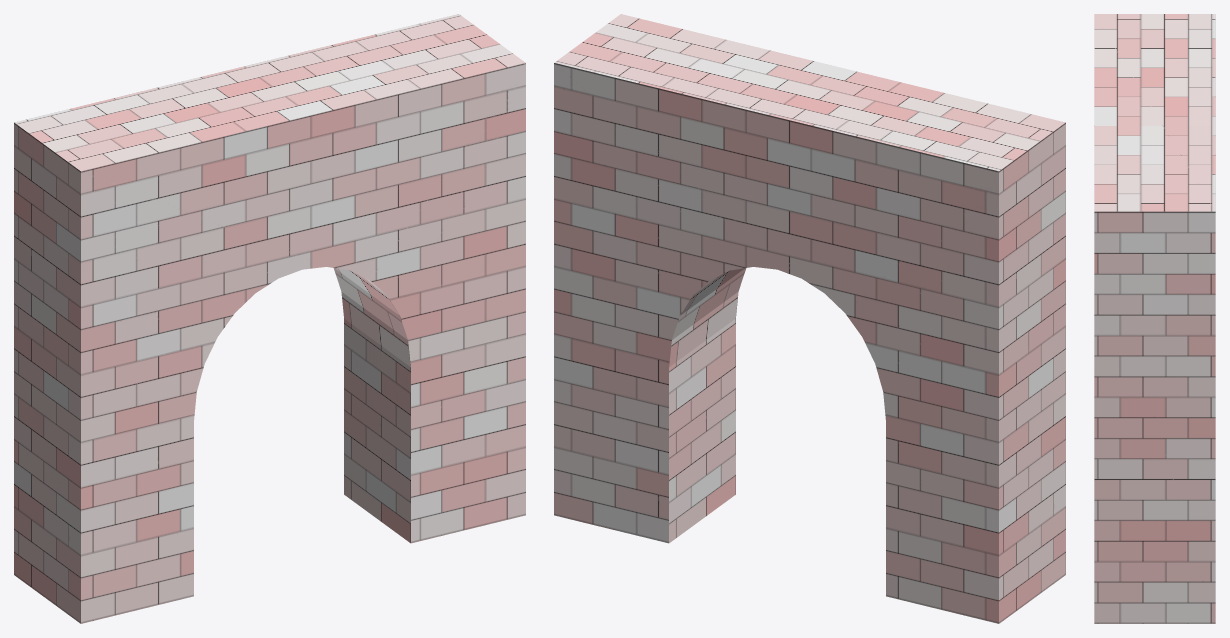
Rendered from arc.gltf.
3 views of the same model, side by side, from view 1: azimuth 30°, elevation 25°; view 2: azimuth 150°, elevation 25°; view 3: azimuth 270°, elevation 25° (orthographic). The views are drawn at different scales.
Visible parts, largest first — view 1: Cube.001; view 2: Cube.001; view 3: Cube.001.
Boxes of the visible parts, x1,y1,x2,y2 form: Cube.001: [14, 14, 525, 623]; Cube.001: [554, 14, 1065, 623]; Cube.001: [1094, 14, 1215, 623].
Bounding box in the file's own units: 3.64 × 3.54 × 0.9467.
1 material, 1 textured.
